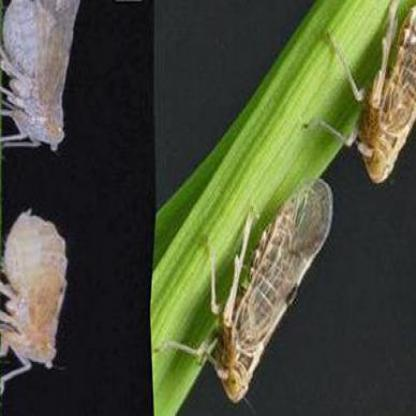brown-planthopper: (178, 174, 344, 402), (2, 204, 69, 393), (350, 0, 416, 187), (2, 0, 72, 152)
